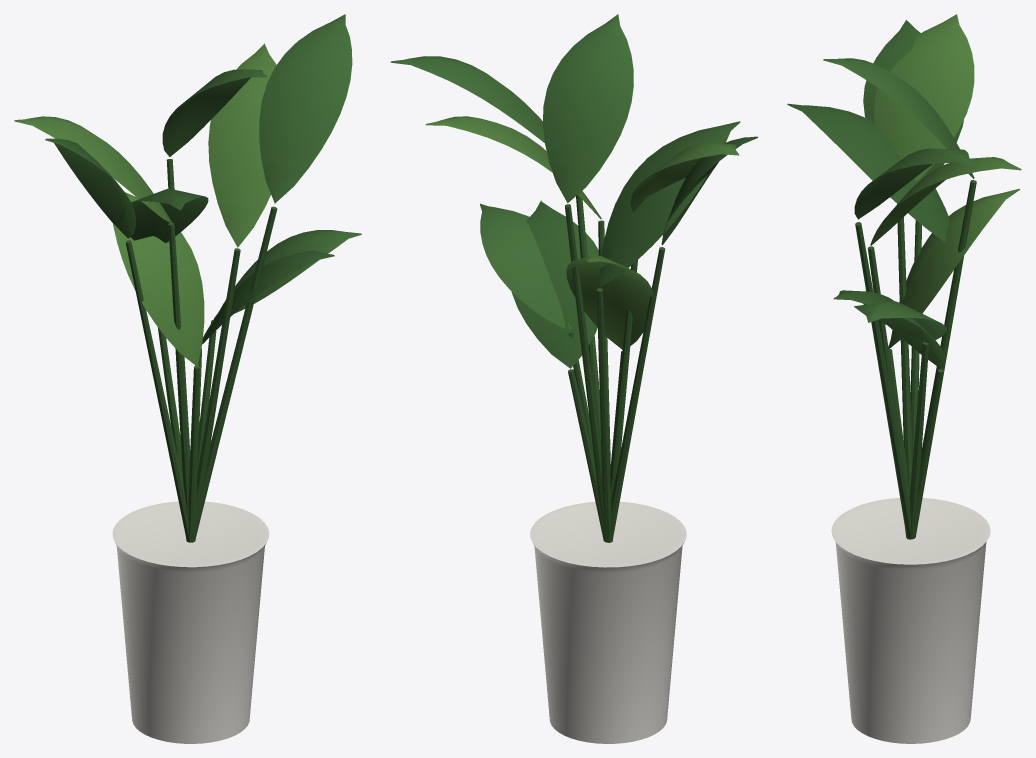
File: planta_alta.glb
The picture shows the model from 3 angles, left to right: view 1: azimuth 30°, elevation 25°; view 2: azimuth 150°, elevation 25°; view 3: azimuth 270°, elevation 25°; orthographic projection.
Visible parts, largest first — view 1: p; view 2: p; view 3: p.
Boxes of the visible parts, x1,y1,x2,y2 form: p: [14, 14, 361, 743]; p: [390, 14, 758, 743]; p: [787, 14, 1021, 743].
Bounding box in the file's own units: 1 × 1.87 × 0.589.
